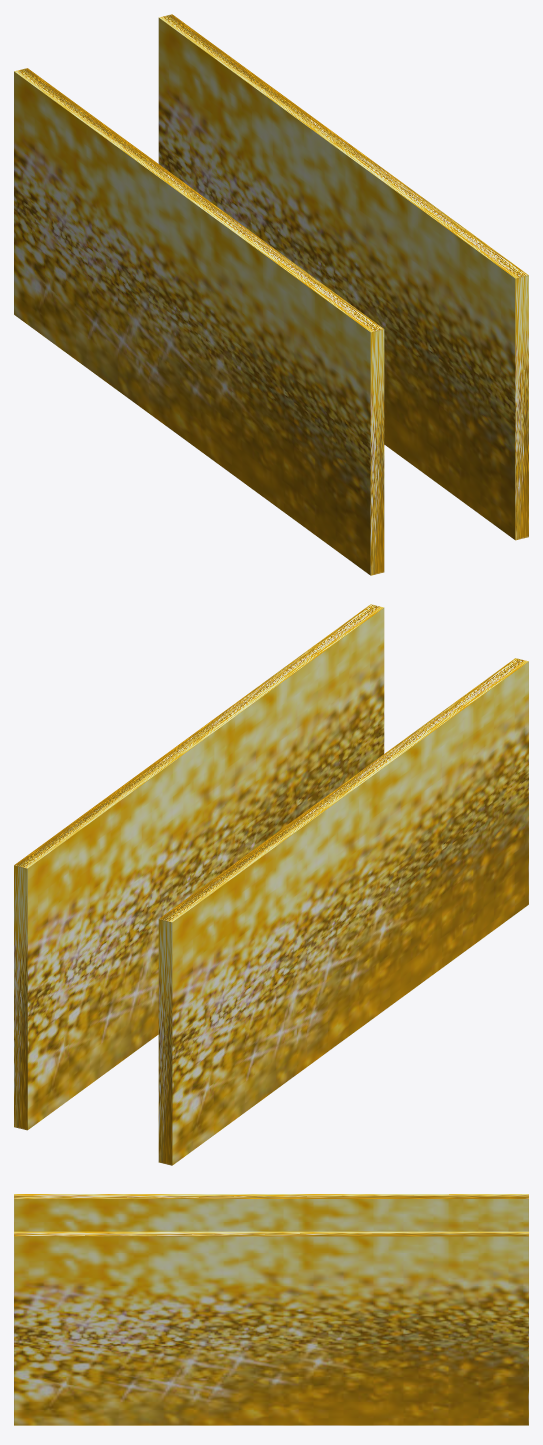
Rendered from Stage.fbx.
The picture shows the model from 3 angles, top to bottom: view 1: azimuth 30°, elevation 25°; view 2: azimuth 150°, elevation 25°; view 3: azimuth 270°, elevation 25°; orthographic projection. The views are drawn at different scales.
Visible parts, largest first — view 1: a (×2); view 2: a (×2); view 3: a (×2).
Part boxes in pixels (left/top/right/bottom): a (×2): left=14, top=14, right=528, bottom=575; a (×2): left=14, top=604, right=528, bottom=1165; a (×2): left=14, top=1194, right=528, bottom=1425.
Size of the model in its own units: 3626770 by 5228644 by 1.29e+07.
Materials: 1 (1 with a texture image).
